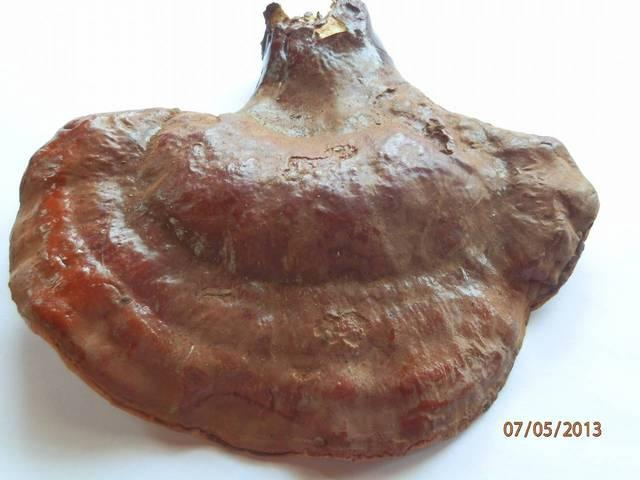Non-edible Mushroom: (6, 0, 600, 462)
